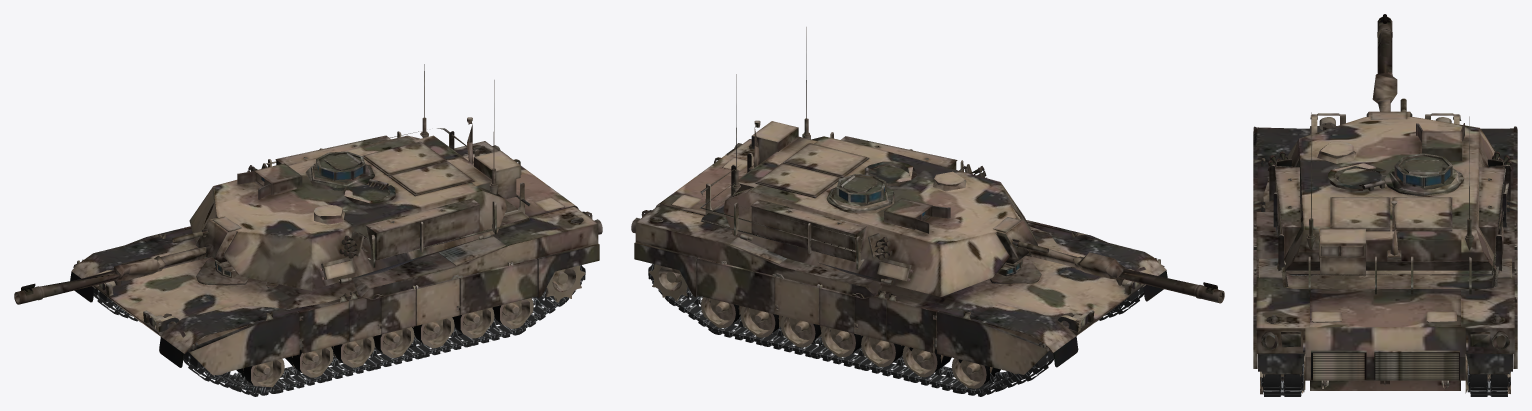
3 renders of one model, left to right at view 1: azimuth 30°, elevation 25°; view 2: azimuth 150°, elevation 25°; view 3: azimuth 270°, elevation 25°, orthographic. The views are drawn at different scales.
Visible parts, largest first — view 1: object 2, object 1; view 2: object 2, object 1; view 3: object 2, object 1, gun.
Boxes of the visible parts, x1,y1,x2,y2 form: object 2: (15,64,602,387); object 1: (93,265,585,396); object 2: (631,27,1221,388); object 1: (648,263,1144,396); object 2: (1253,29,1517,394); object 1: (1261,358,1510,396); gun: (1377,14,1392,37).
Size of the model in its own units: 1.04 by 0.4728 by 0.3891.
Materials: 2 (2 with a texture image).
